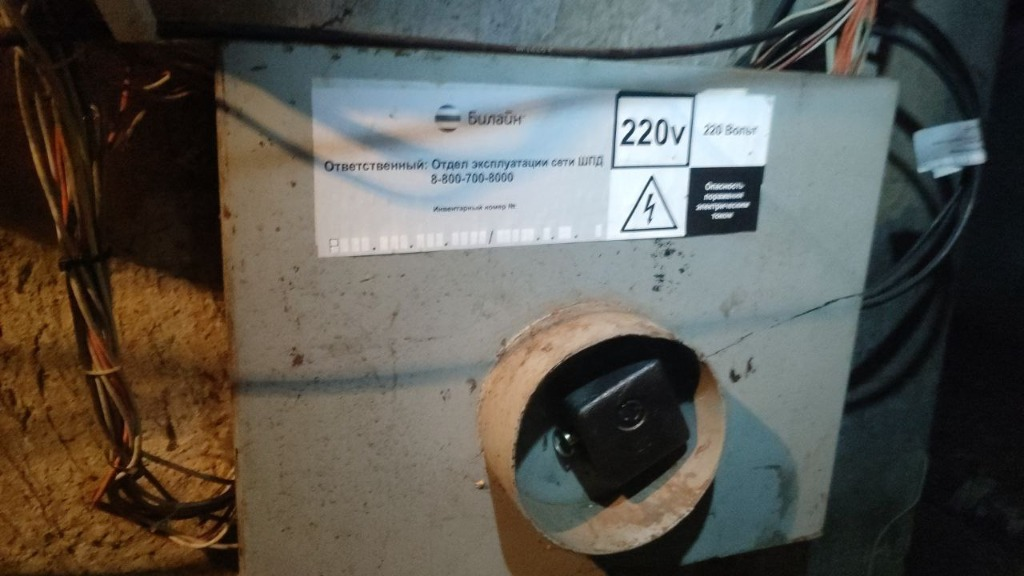shta-3: (209, 39, 906, 572)
